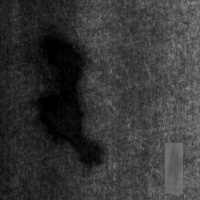inclusion: (165, 143, 183, 194)
patches: (31, 24, 81, 143), (64, 126, 108, 169)
